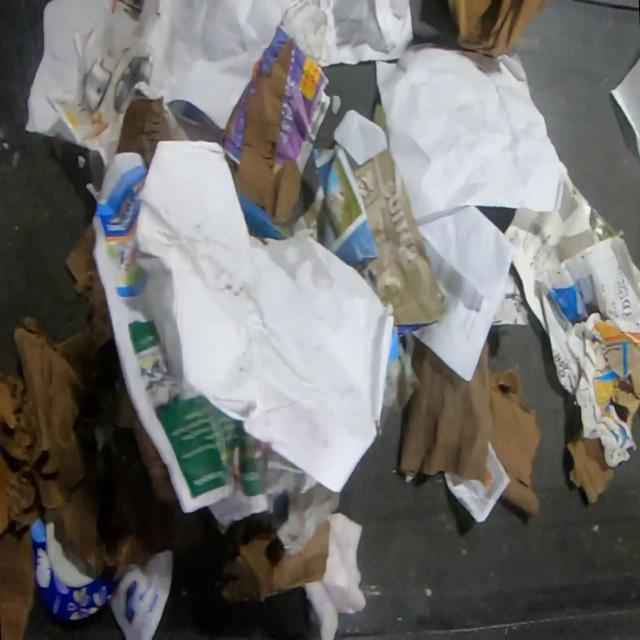cardboard: (0, 220, 206, 640), (222, 23, 332, 228), (27, 515, 124, 621), (110, 365, 180, 508), (218, 520, 328, 606), (488, 362, 544, 517), (444, 0, 551, 58), (116, 95, 174, 169), (564, 429, 615, 505), (611, 361, 640, 432)
soft_plastic: (261, 444, 342, 556)
